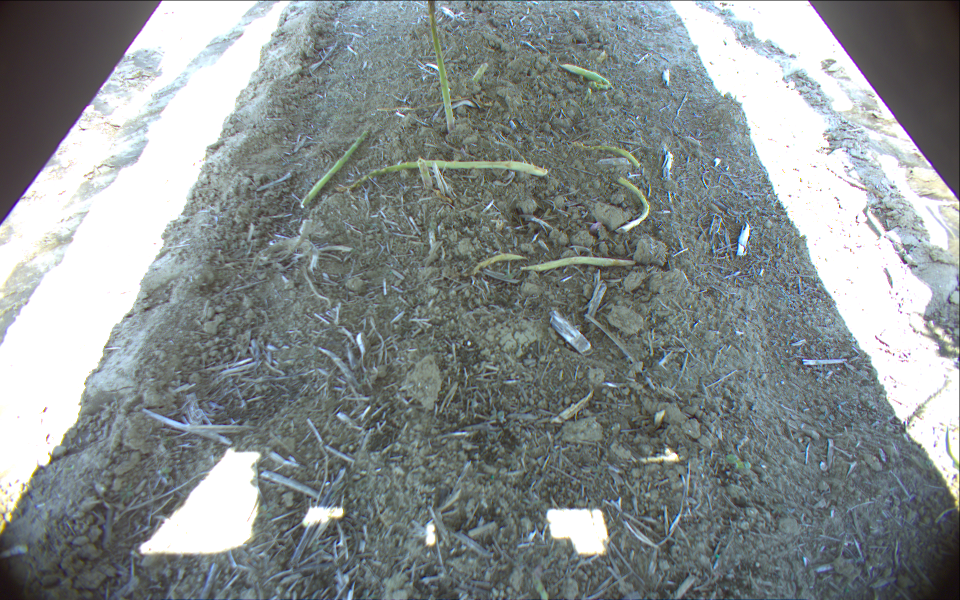aspa: (343, 160, 548, 190), (298, 129, 372, 211), (426, 1, 456, 135), (527, 257, 634, 275), (618, 176, 649, 235), (575, 142, 642, 167), (560, 63, 613, 89), (474, 253, 525, 275), (418, 156, 431, 190), (471, 59, 489, 83)
